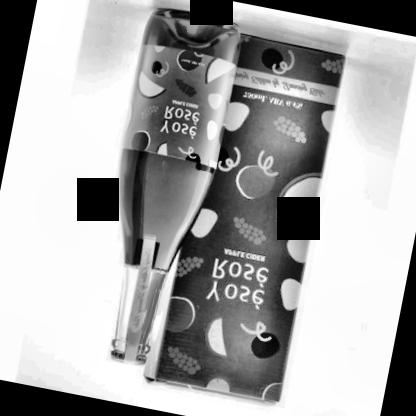yoserose: (120, 38, 240, 166)
